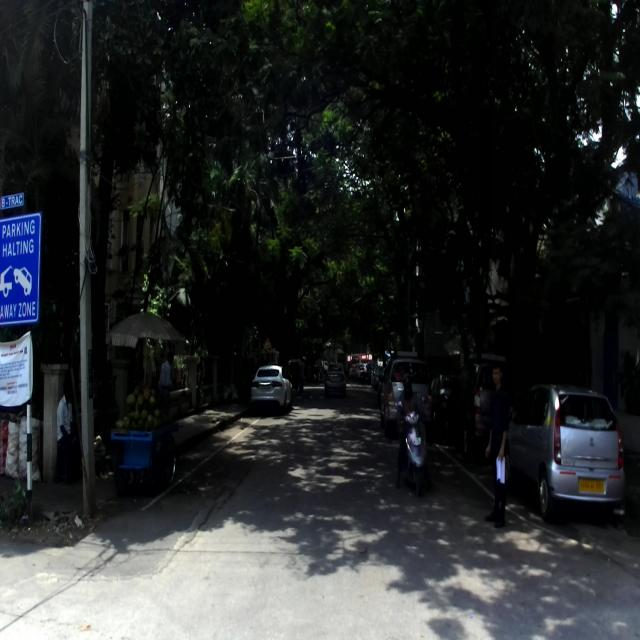Car_TATA: (504, 383, 626, 524)
Car_Toyota: (445, 353, 518, 455)
scooter: (396, 393, 427, 498)
